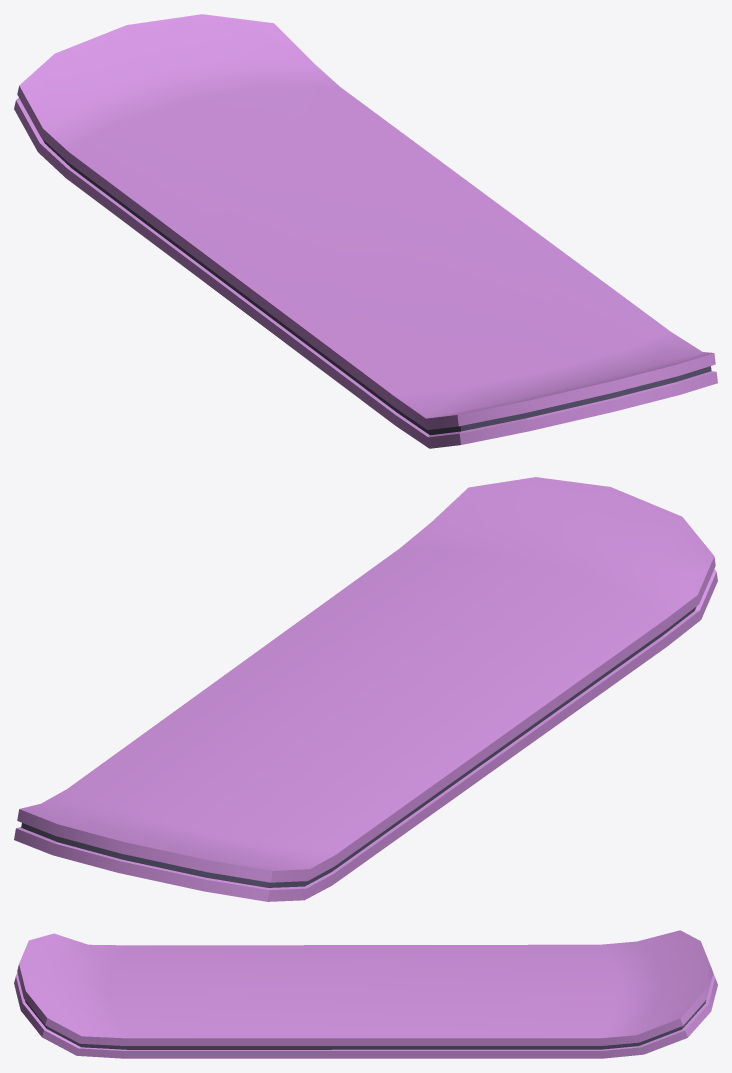
File: Hoverboard.fbx
3 renders of one model, top to bottom at view 1: azimuth 30°, elevation 25°; view 2: azimuth 150°, elevation 25°; view 3: azimuth 270°, elevation 25°, orthographic. The views are drawn at different scales.
Visible parts, largest first — view 1: HoverBoard; view 2: HoverBoard; view 3: HoverBoard.
Part boxes in pixels (box(x1,y1,x2,y2)): HoverBoard: box(14, 14, 717, 448); HoverBoard: box(14, 477, 717, 901); HoverBoard: box(14, 930, 717, 1058).
Bounding box in the file's own units: 65.82 × 21.01 × 206.
